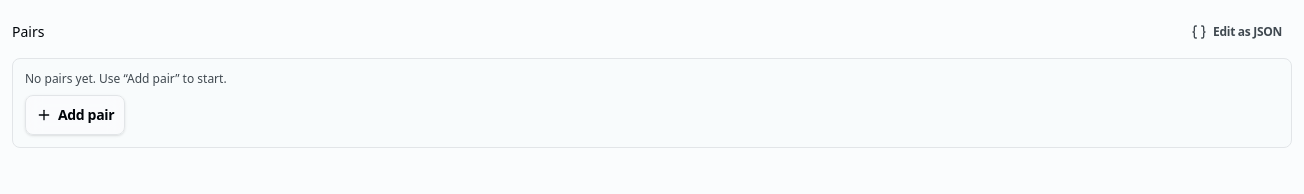
PairListField › rejects non-pair arrays in raw mode
Click the button "Edit as JSON" at point(1237, 32), box top-left (1181, 12), bottom-right (1292, 52)
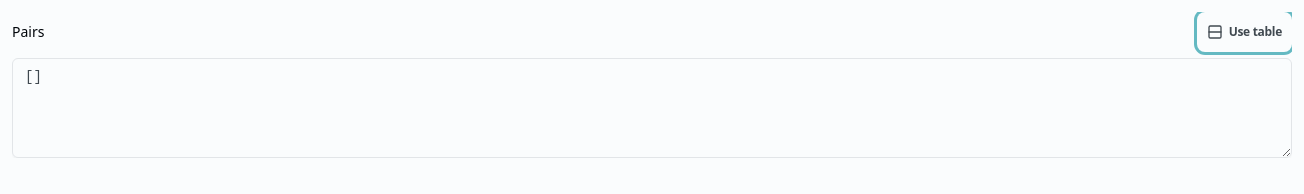
Type "[ [\"oxidizer\"]" into the text box named "Pairs (raw JSON)" at point(652, 108), box top-left (12, 58), bottom-right (1292, 158)
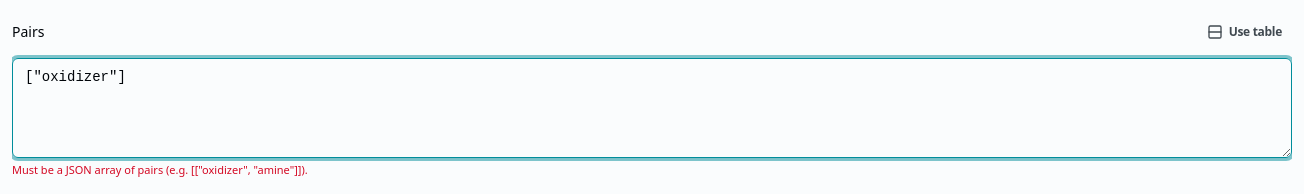
Expected: the text "array of pairs" is shown, top-left (12, 162), bottom-right (308, 177)
